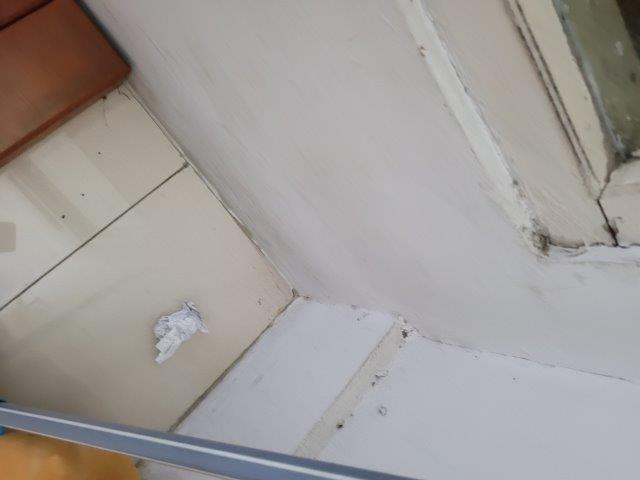kertas: (155, 301, 208, 366)
